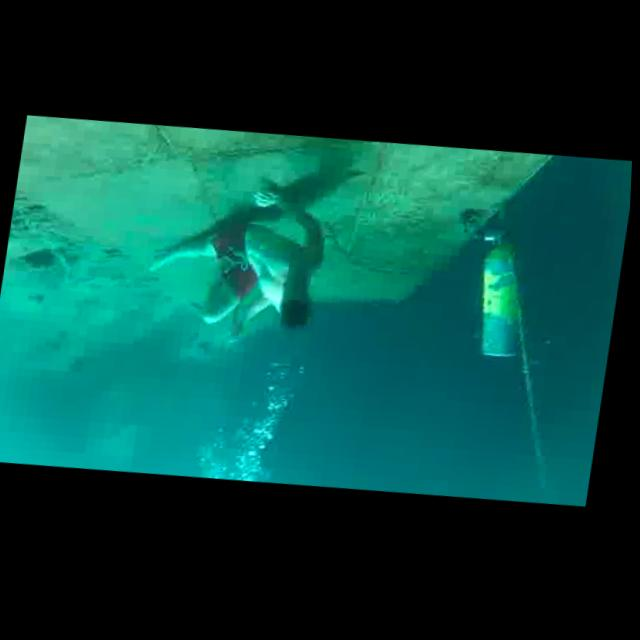human: (137, 166, 344, 358)
